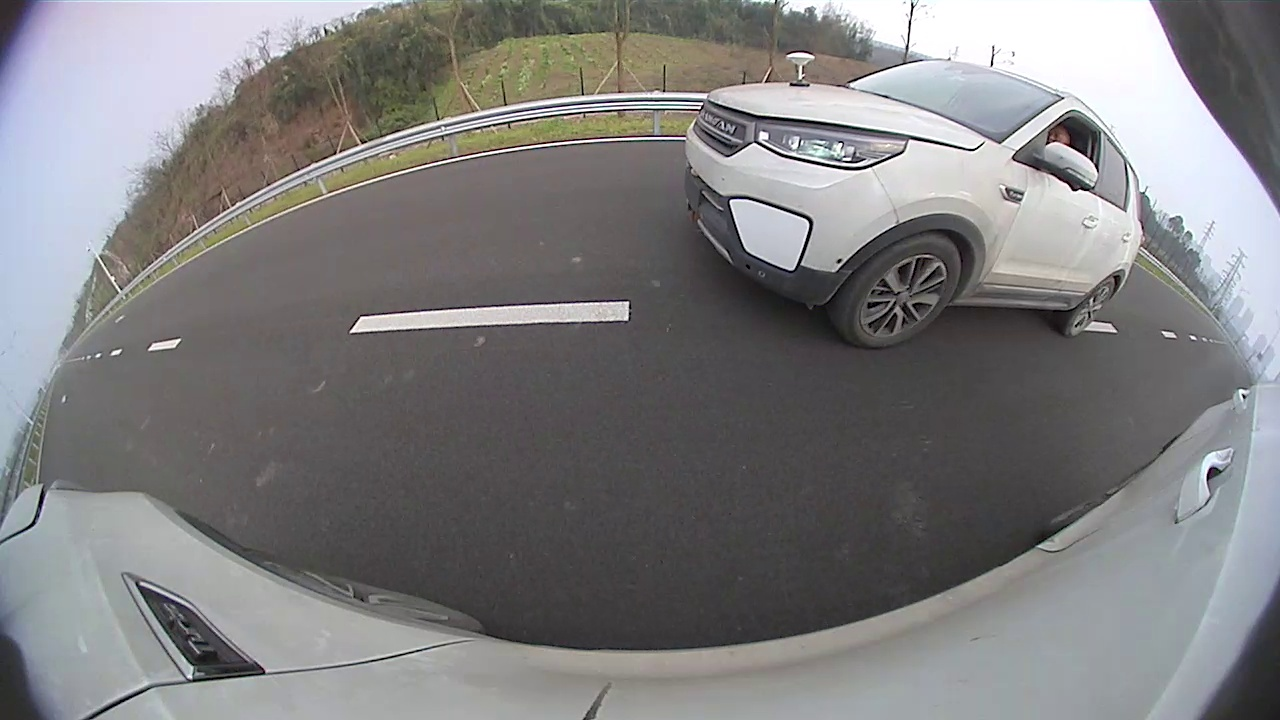car: (685, 51, 1145, 348)
front: (851, 238, 959, 345)
rear: (1061, 276, 1116, 337)
